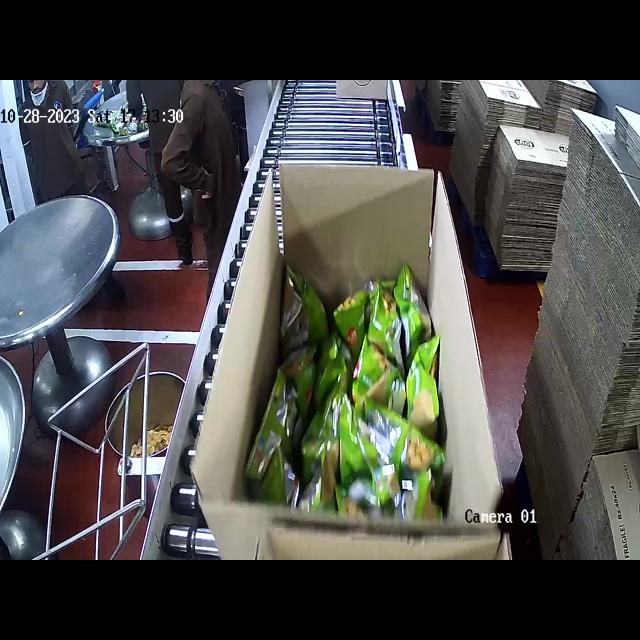yogurt: (243, 259, 446, 524)
